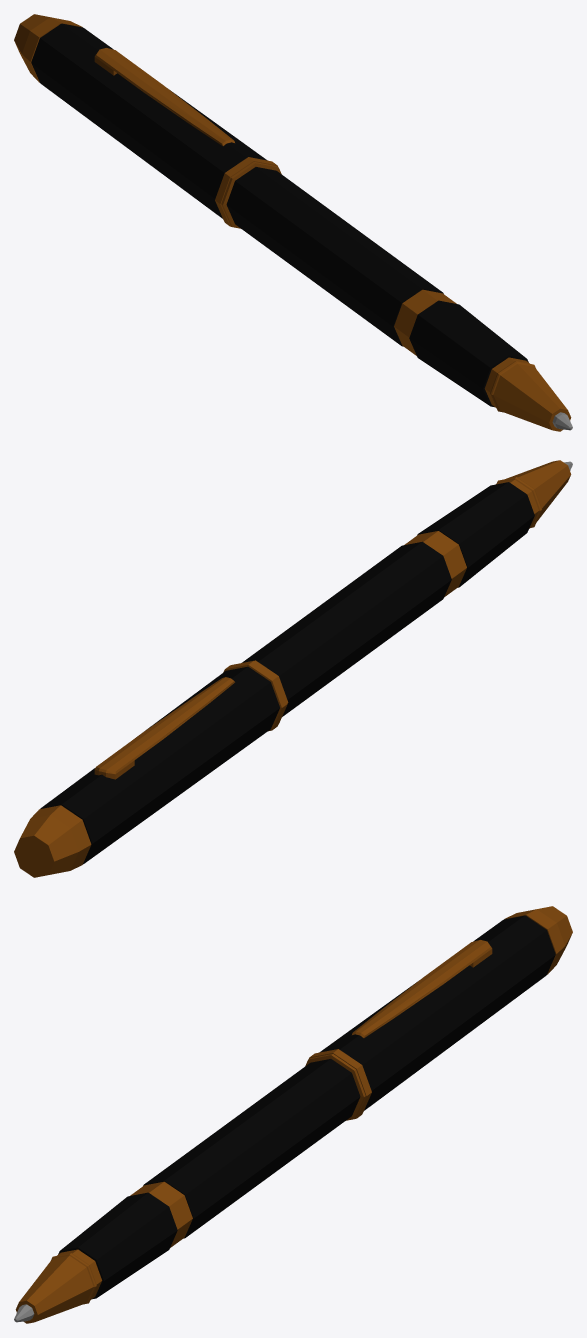
File: kalam Pen.fbx
3 renders of one model, top to bottom at view 1: azimuth 30°, elevation 25°; view 2: azimuth 150°, elevation 25°; view 3: azimuth 330°, elevation 25°, orthographic.
Visible parts, largest first — view 1: Node-Mesh_1, Node-Mesh; view 2: Node-Mesh_1, Node-Mesh; view 3: Node-Mesh_1, Node-Mesh.
Part boxes in pixels (x1,y1,x2,y2): Node-Mesh_1: [31, 23, 528, 407]; Node-Mesh: [14, 14, 571, 431]; Node-Mesh_1: [40, 482, 534, 864]; Node-Mesh: [14, 460, 571, 877]; Node-Mesh_1: [58, 915, 555, 1299]; Node-Mesh: [15, 906, 572, 1323].
Bounding box in the file's own units: 0.3673 × 0.3776 × 5.1.
